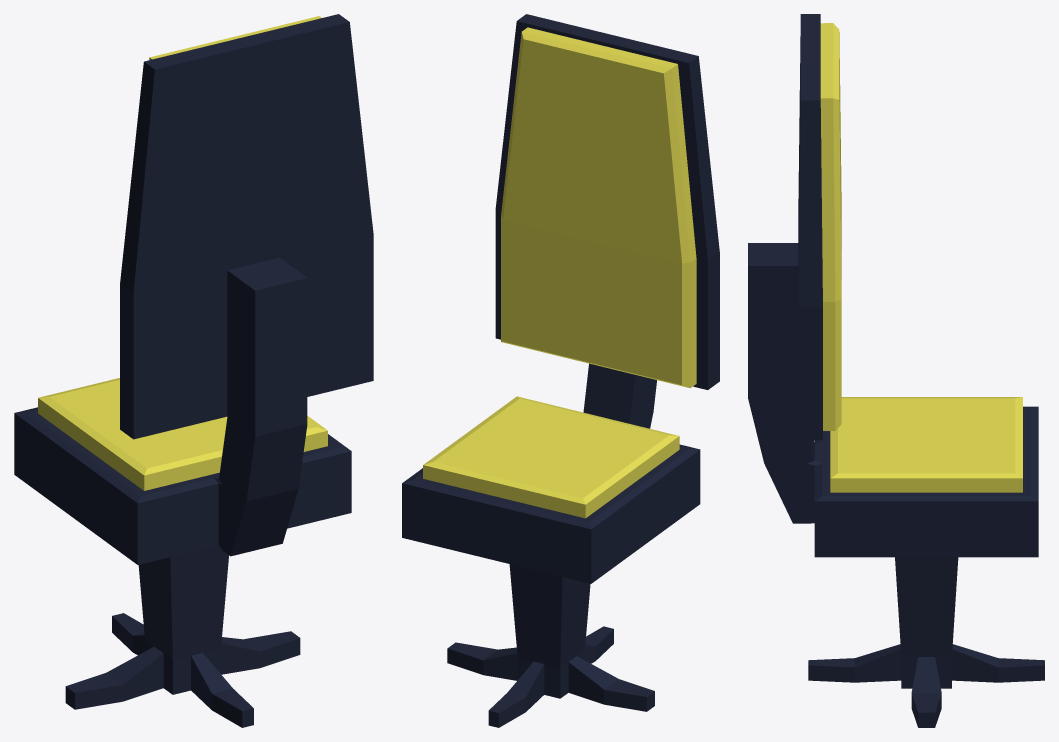
File: Office chair Secretary.fbx
The picture shows the model from 3 angles, left to right: view 1: azimuth 30°, elevation 25°; view 2: azimuth 150°, elevation 25°; view 3: azimuth 270°, elevation 25°; orthographic projection. The views are drawn at different scales.
Parts seen in each view (by area): view 1: Office Chair.001; view 2: Office Chair.001; view 3: Office Chair.001.
Boxes of the visible parts, x1,y1,x2,y2 form: Office Chair.001: [14, 14, 373, 727]; Office Chair.001: [402, 14, 719, 727]; Office Chair.001: [748, 14, 1044, 727].
Bounding box in the file's own units: 61.06 × 166 × 71.98.
